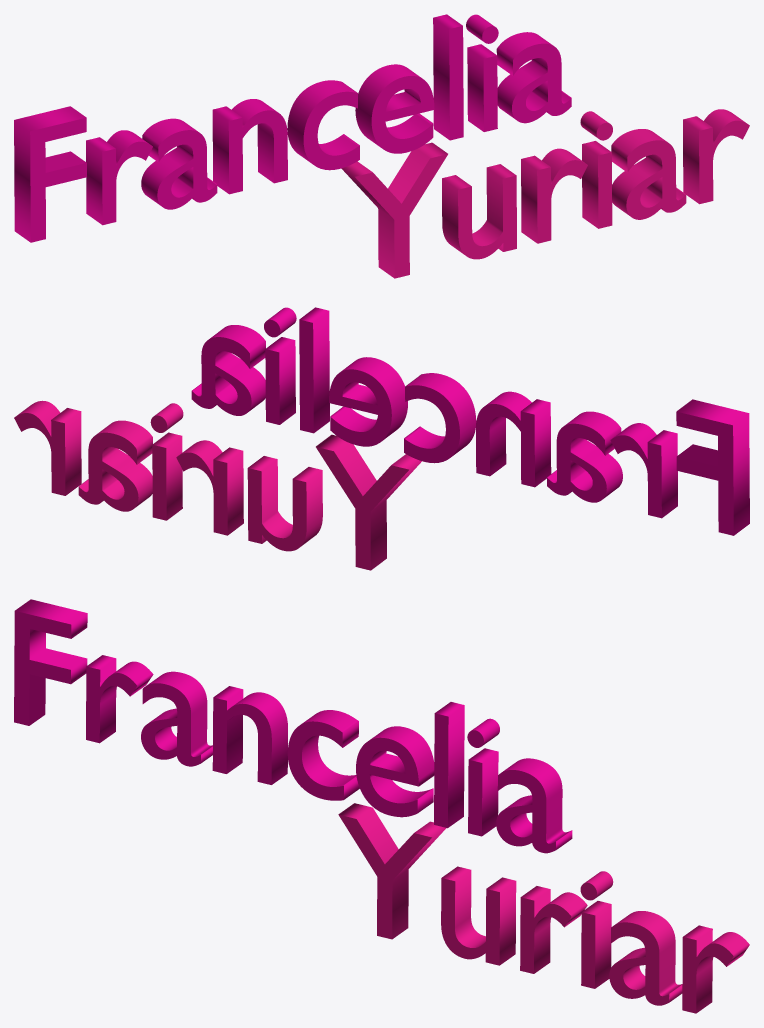
File: fran3d.gltf
3 renders of one model, top to bottom at view 1: azimuth 30°, elevation 25°; view 2: azimuth 150°, elevation 25°; view 3: azimuth 330°, elevation 25°, orthographic.
Parts seen in each view (by area): view 1: Text, Text.001; view 2: Text, Text.001; view 3: Text, Text.001.
Part boxes in pixels (x1,y1,x2,y2): Text: [14, 14, 571, 242]; Text.001: [341, 109, 749, 278]; Text: [191, 307, 749, 535]; Text.001: [14, 400, 421, 570]; Text: [14, 599, 572, 853]; Text.001: [338, 803, 749, 1013].
Size of the model in its own units: 4.63 by 1.45 by 0.1973.
